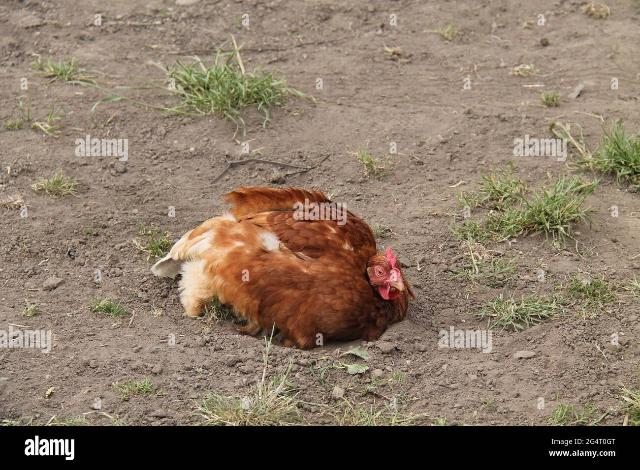Chicken: (150, 185, 410, 350)
